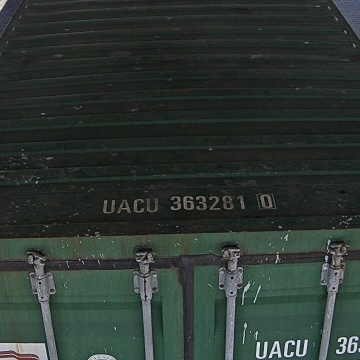serial_id: (255, 329, 360, 358)
